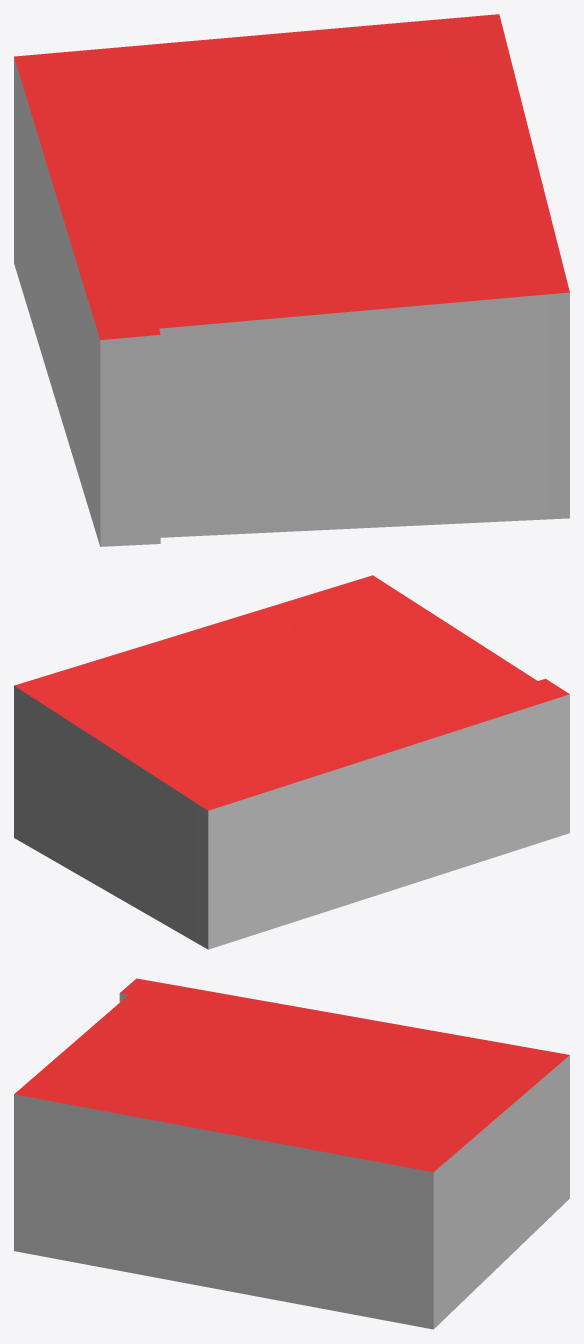
The model's file is DEBY_LOD2_4908136.dae.
3 renders of one model, top to bottom at view 1: azimuth 30°, elevation 25°; view 2: azimuth 150°, elevation 25°; view 3: azimuth 270°, elevation 25°, orthographic. The views are drawn at different scales.
Bounding box in the file's own units: 9.66 × 10.93 × 3.41.
